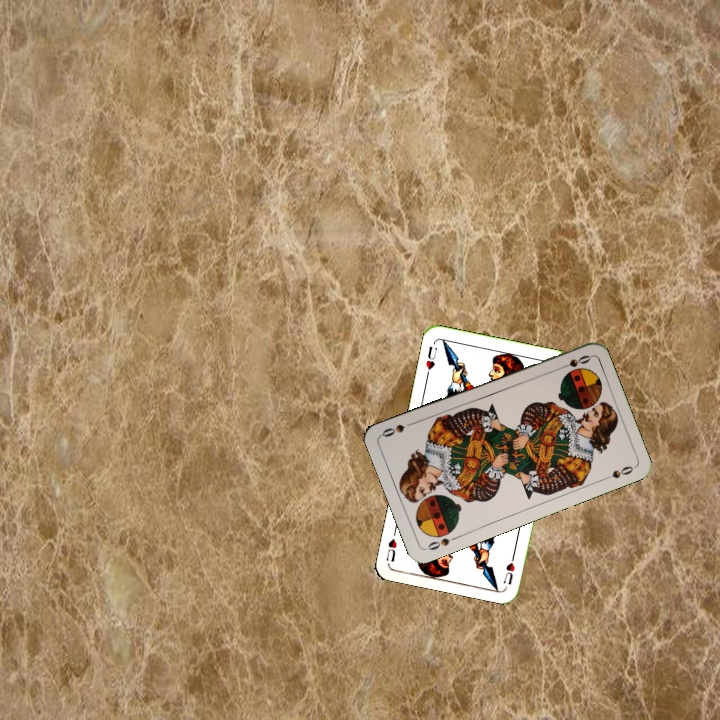HU: (499, 548, 518, 588), (422, 342, 440, 379)
SO: (554, 351, 593, 372), (422, 532, 461, 553)
